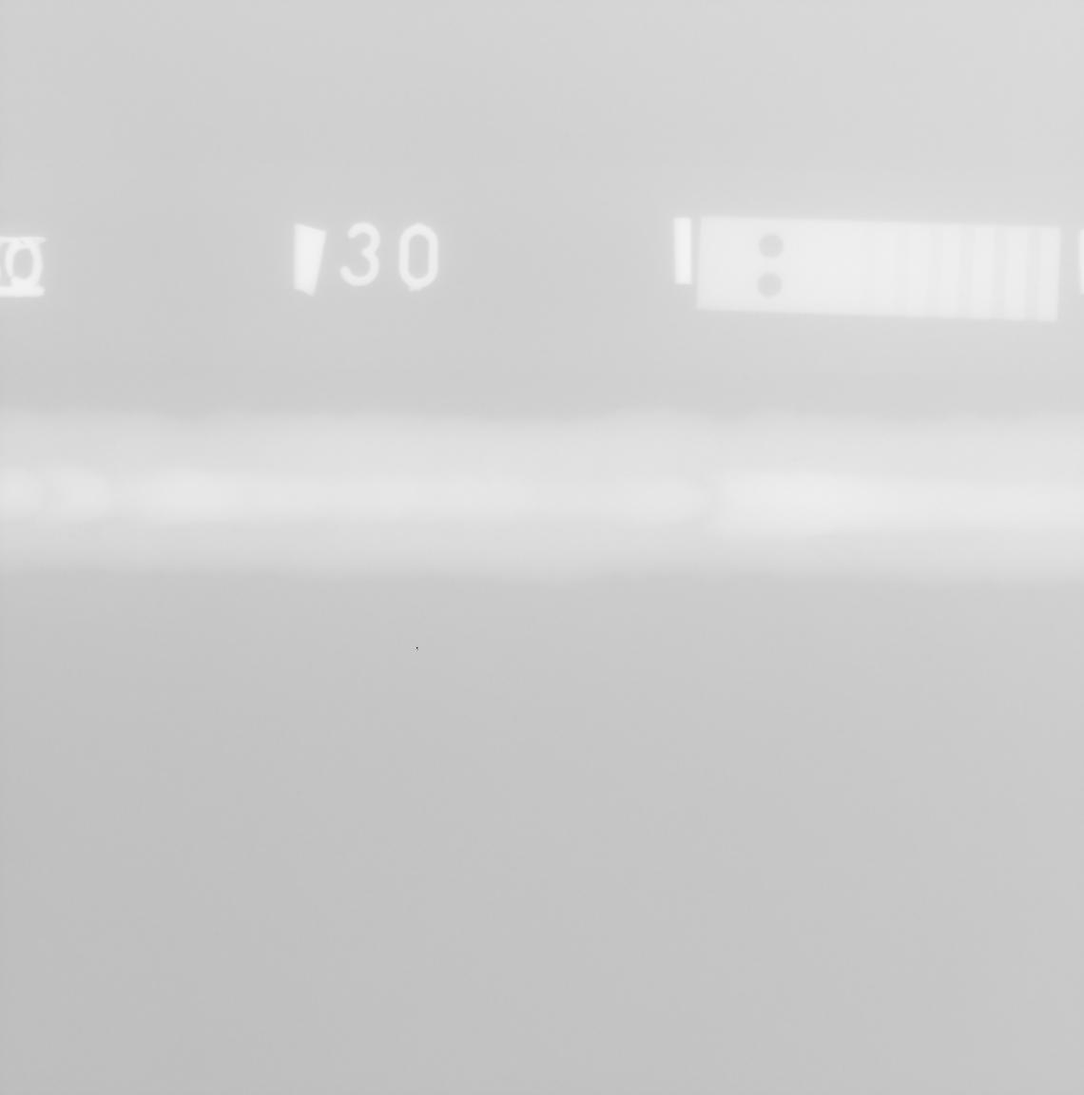Inclusion: (29, 501, 33, 506)
Pore/Porosity: (70, 533, 78, 540), (791, 457, 798, 462), (234, 529, 237, 533), (128, 529, 131, 532)
Reference Standard 2: (696, 215, 1061, 323)
